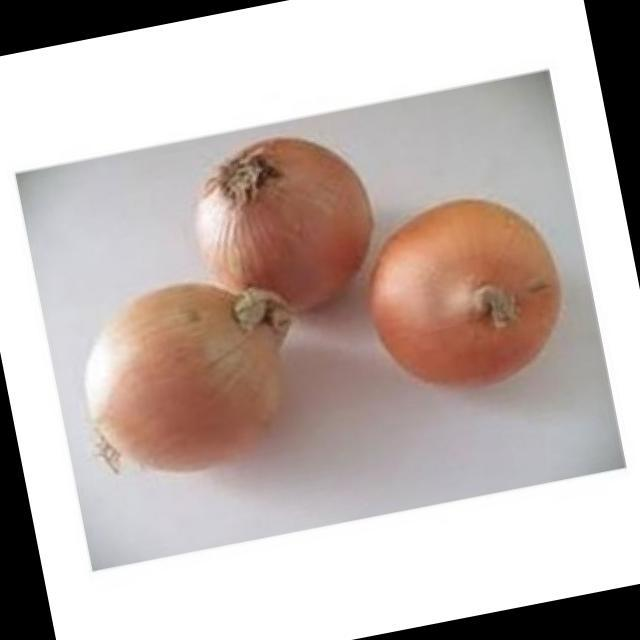Onion: (83, 286, 287, 468), (368, 198, 559, 384), (193, 137, 373, 308)
